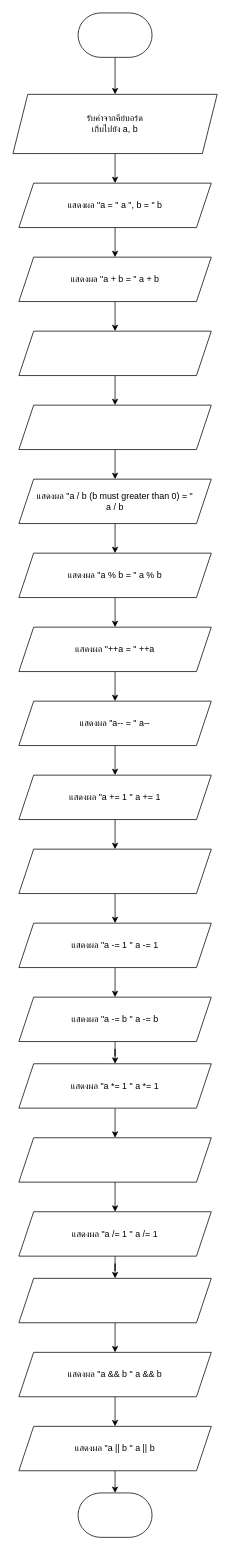
Some shapes in this 230 by 1550 pixel diagram are drawn without their labels. Each missing label, with the centre of its shape:
End: pixel 114 1514
Start: pixel 114 34
แสดงผล "a * b = " a * b: pixel 114 427
แสดงผล "a *= b " a *= b: pixel 114 1159
แสดงผล "a += b " a += b: pixel 114 871
แสดงผล "a - b = " a - b: pixel 114 353
แสดงผล "a /= b " a /= b: pixel 114 1300
